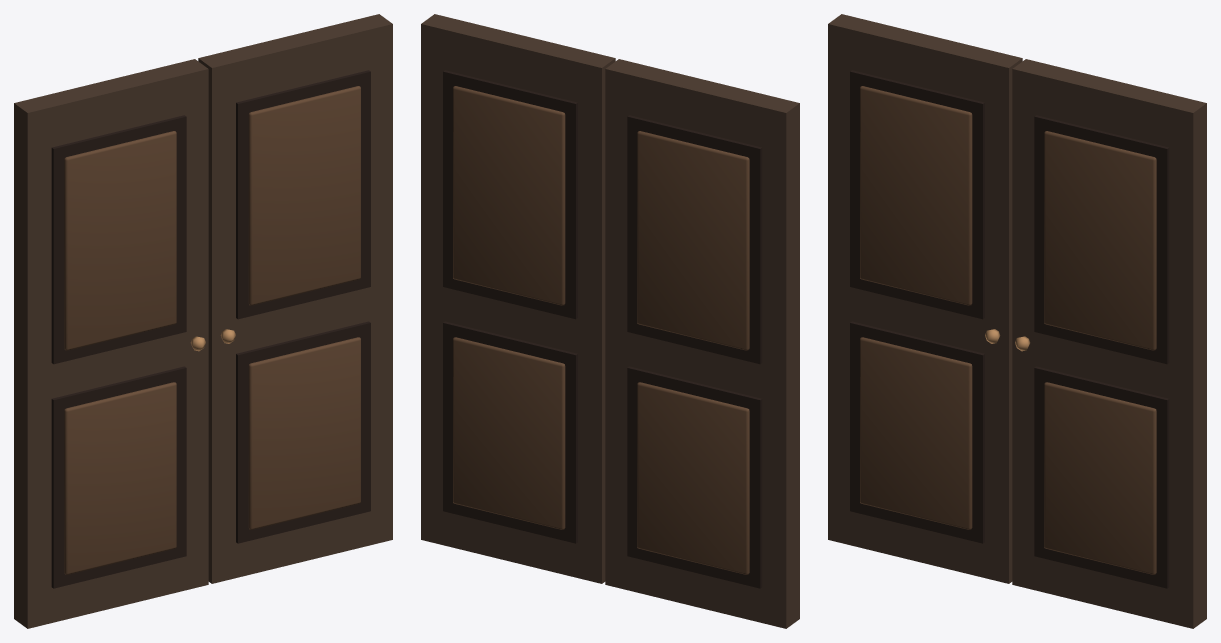
The model's file is door_double.glb.
The picture shows the model from 3 angles, left to right: view 1: azimuth 30°, elevation 25°; view 2: azimuth 150°, elevation 25°; view 3: azimuth 330°, elevation 25°; orthographic projection.
Parts seen in each view (by area): view 1: door_double; view 2: door_double; view 3: door_double.
Boxes of the visible parts, x1=… form: door_double: x1=14, y1=14, x2=392, y2=628; door_double: x1=421, y1=14, x2=799, y2=628; door_double: x1=828, y1=14, x2=1206, y2=628.
Size of the model in its own units: 0.852 by 1.15 by 0.1.
